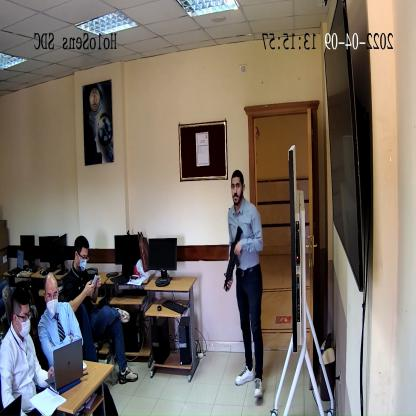handgun: (224, 225, 243, 292)
